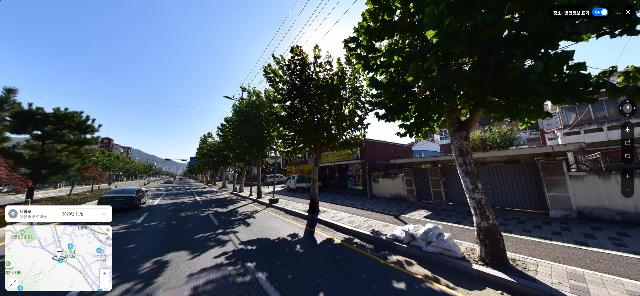other: (342, 1, 639, 274), (261, 43, 372, 215), (226, 85, 281, 198), (215, 118, 253, 193)
